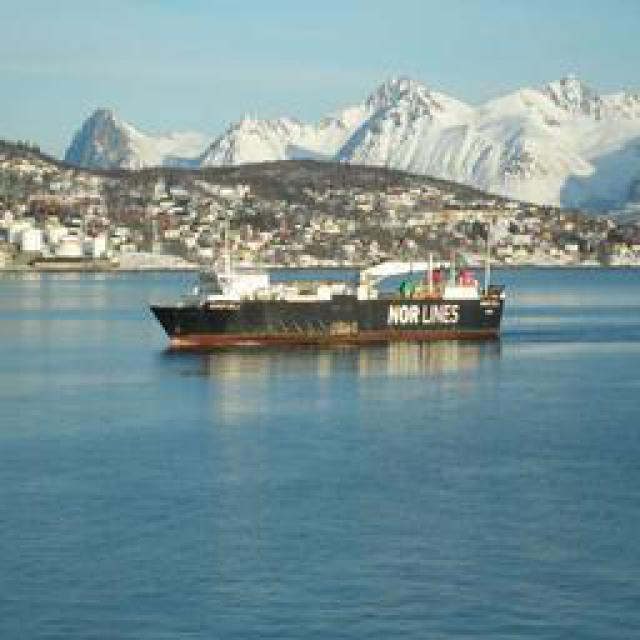Ship: (147, 258, 510, 343)
